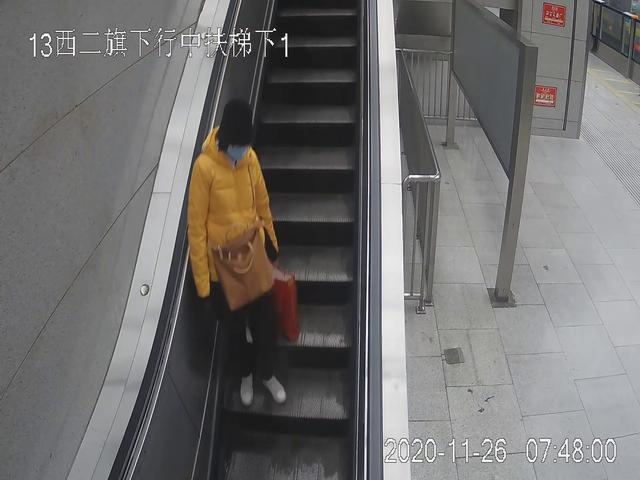person: (186, 101, 290, 409)
